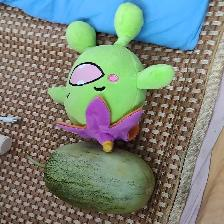gua: (41, 150, 141, 208)
